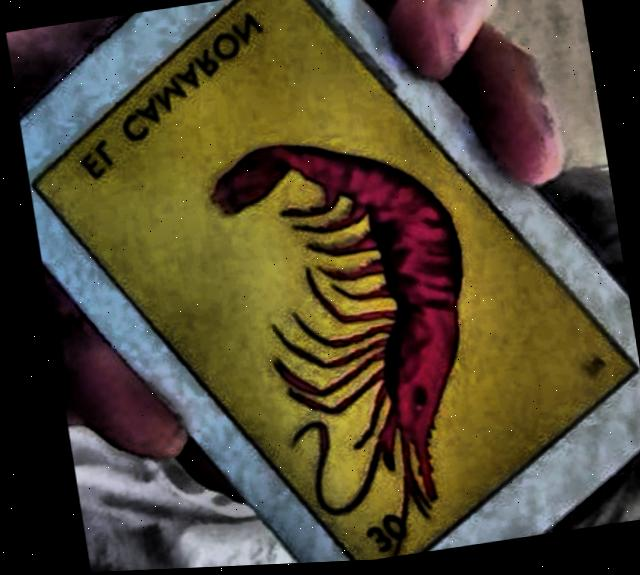El Camaron: (33, 0, 635, 563)
